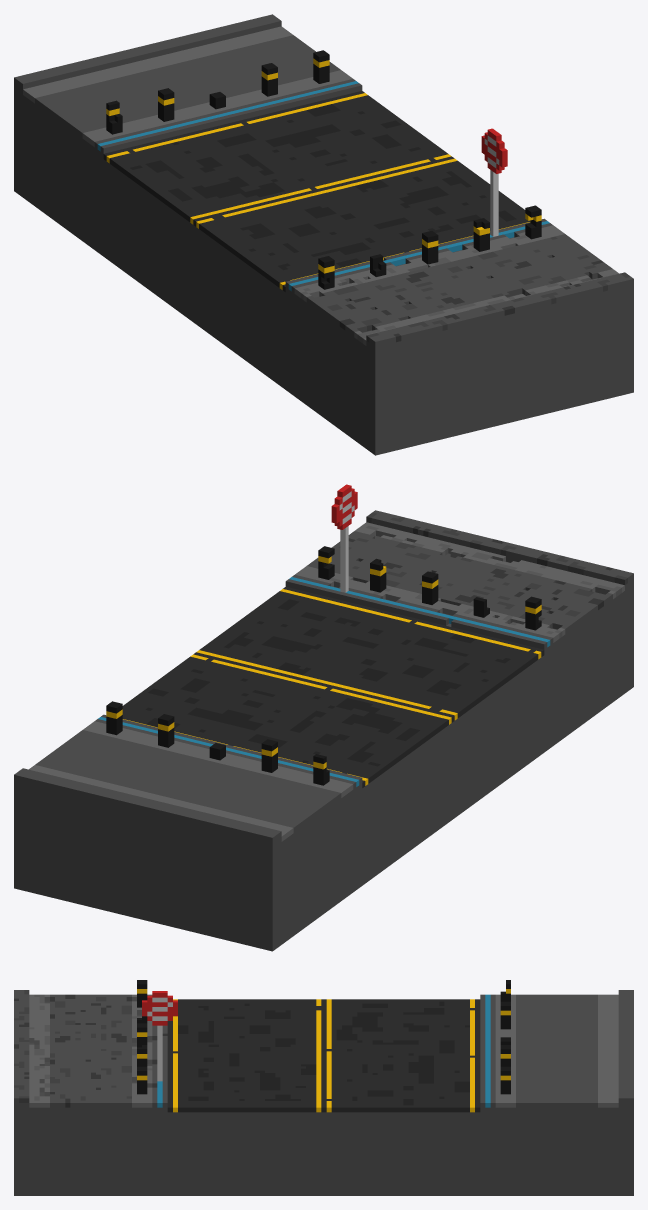
File: Road2.obj
The picture shows the model from 3 angles, top to bottom: view 1: azimuth 30°, elevation 25°; view 2: azimuth 150°, elevation 25°; view 3: azimuth 270°, elevation 25°; orthographic projection. The views are drawn at different scales.
Bounding box in the file's own units: 50 × 39 × 121.
1 material, 1 textured.
